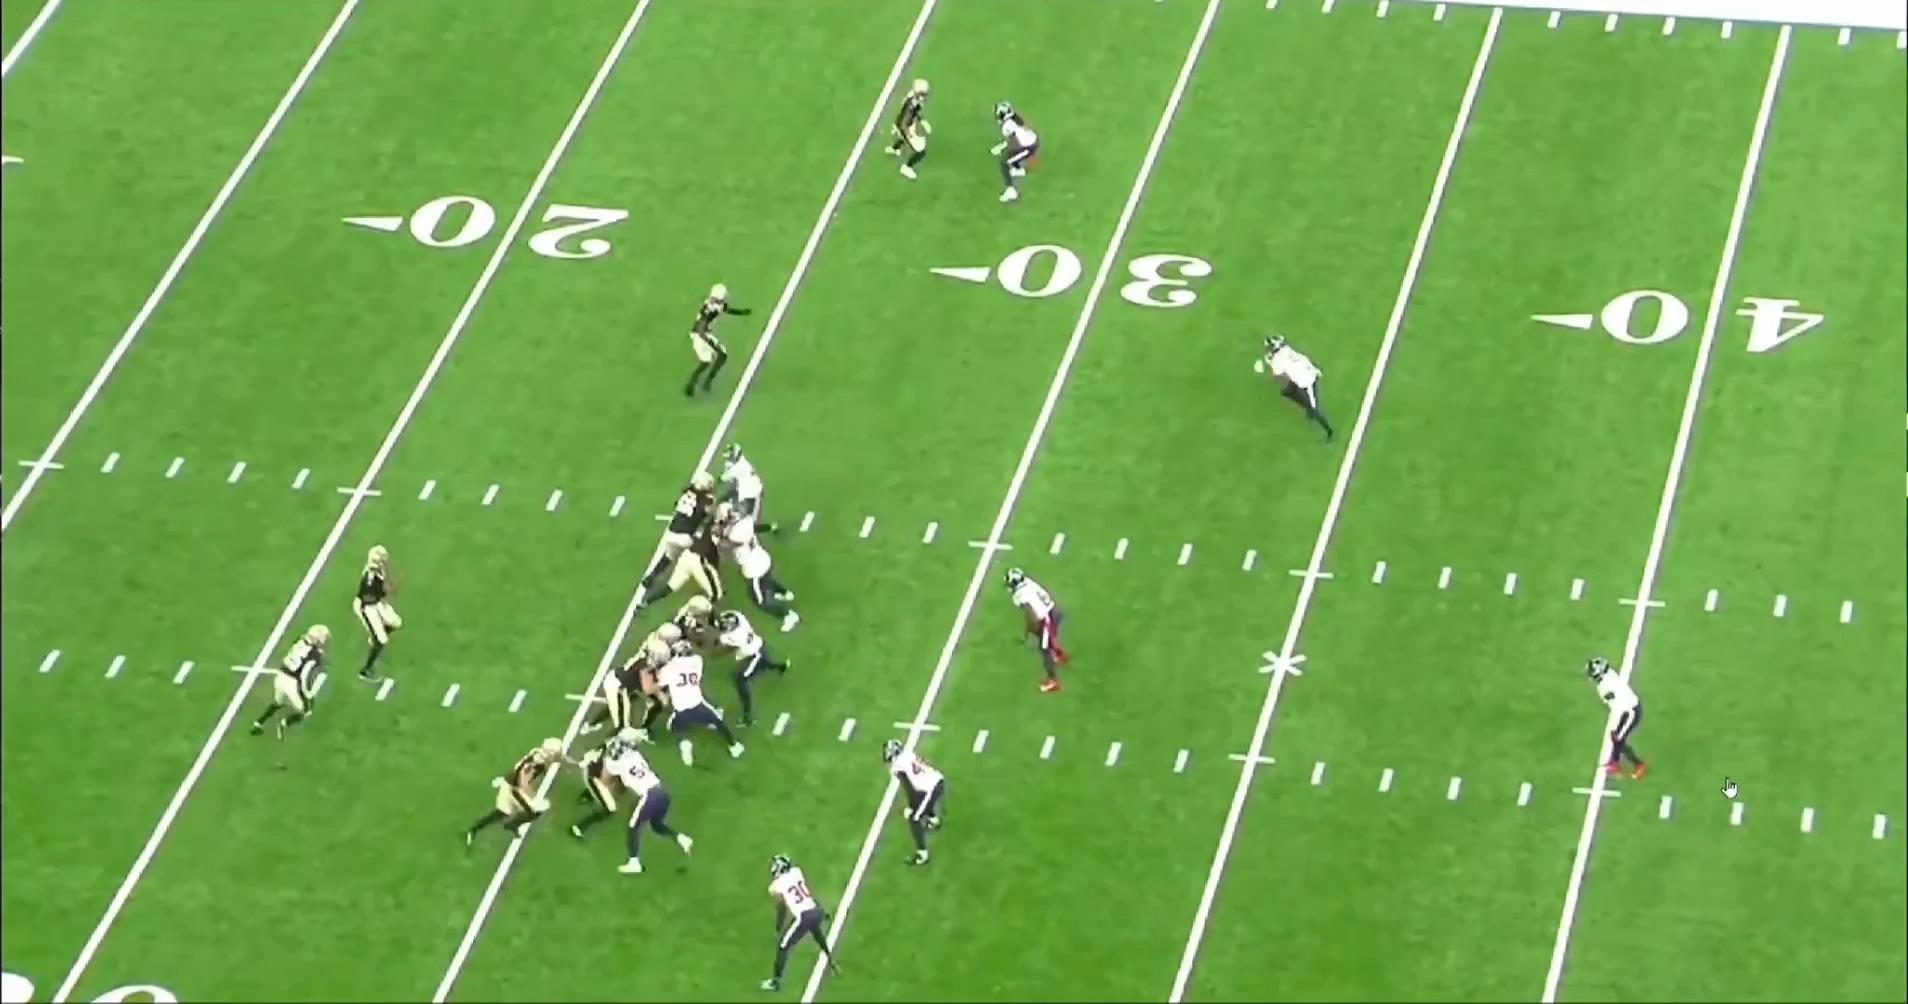player: (598, 740, 704, 885), (635, 496, 750, 617), (710, 501, 813, 634), (624, 471, 720, 612), (460, 733, 568, 858), (649, 646, 750, 772), (751, 854, 835, 998), (706, 611, 797, 728), (254, 618, 338, 743), (578, 638, 674, 742), (1007, 568, 1081, 700), (881, 735, 953, 869), (1252, 332, 1338, 443), (1581, 656, 1650, 787), (346, 539, 407, 686), (678, 284, 745, 408), (623, 622, 688, 736), (563, 728, 626, 844), (876, 71, 934, 184), (989, 98, 1047, 207), (716, 442, 777, 537), (678, 593, 723, 655)
